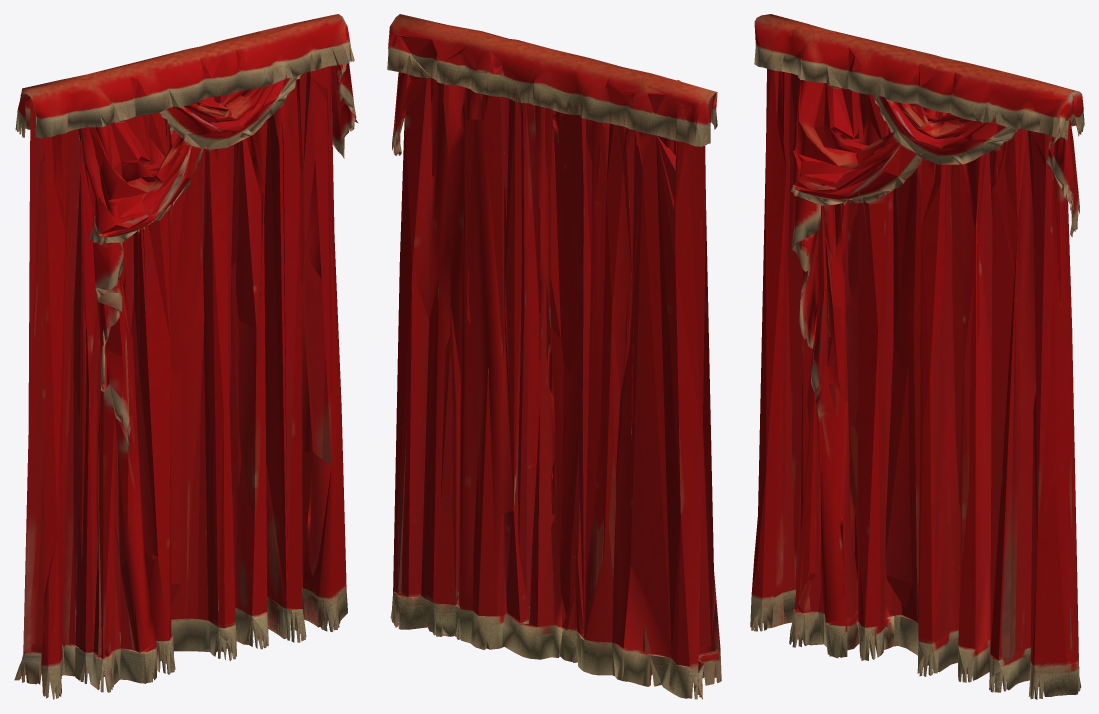
File: Rideau.fbx
3 renders of one model, left to right at view 1: azimuth 30°, elevation 25°; view 2: azimuth 150°, elevation 25°; view 3: azimuth 330°, elevation 25°, orthographic.
Parts seen in each view (by area): view 1: output_unwrapped; view 2: output_unwrapped; view 3: output_unwrapped.
Boxes of the visible parts, bbox=[...] form: output_unwrapped: bbox=[14, 14, 358, 699]; output_unwrapped: bbox=[387, 14, 721, 699]; output_unwrapped: bbox=[750, 14, 1084, 699].
Bounding box in the file's own units: 107 × 190 × 23.11.
Materials: 1 (1 with a texture image).
